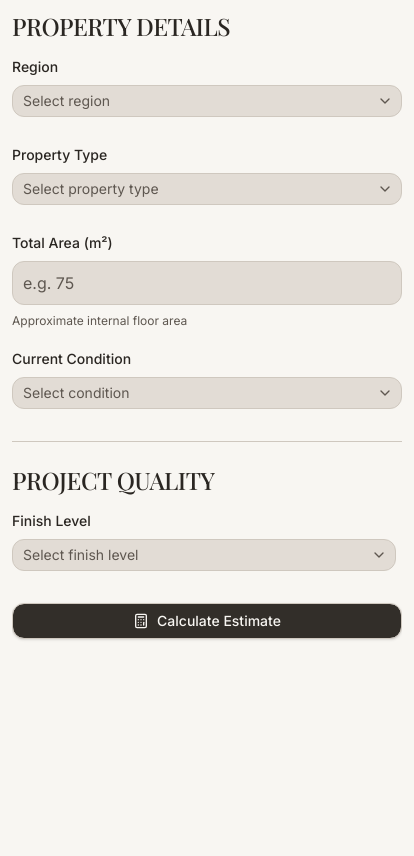
EstimateForm › shows required validation errors when submitted empty
What coordinates should you click on to do the following:
click the button "Calculate Estimate"
I would click on:
 (207, 621)
Its box is [12,603,402,639].
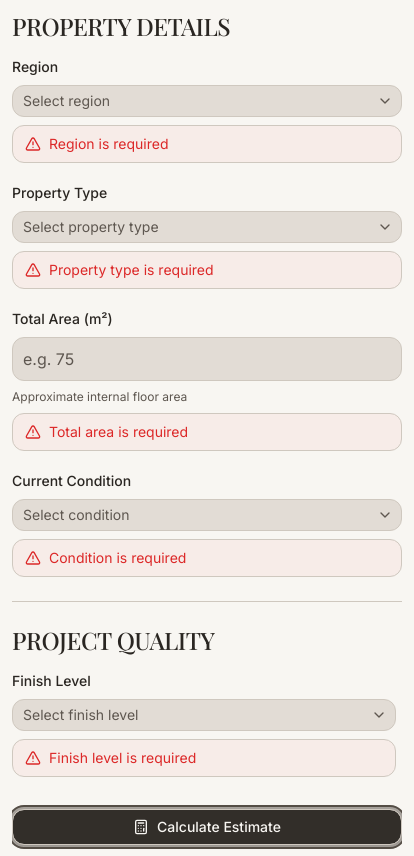
Check: the text "Property type is required" is shown, box [49,260,214,280]
